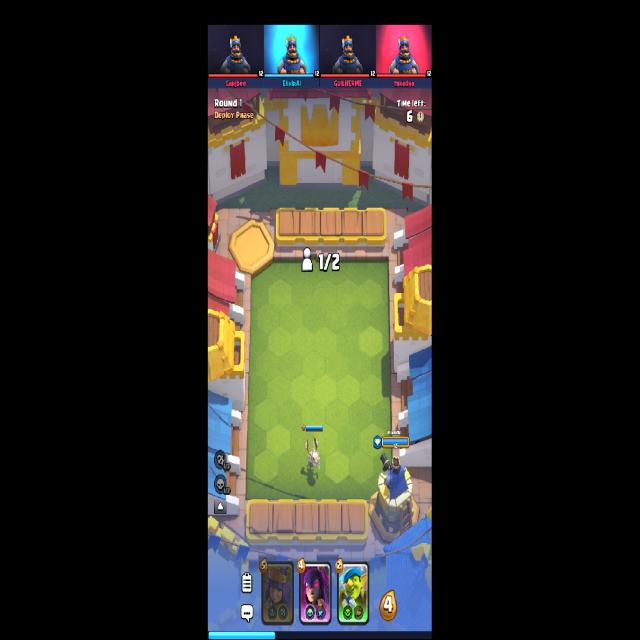card_archer_queen: (261, 558, 295, 625)
card_spear_goblin: (336, 562, 368, 623)
card_witch: (298, 560, 332, 618)
skeleton_dragon: (304, 434, 320, 468)
